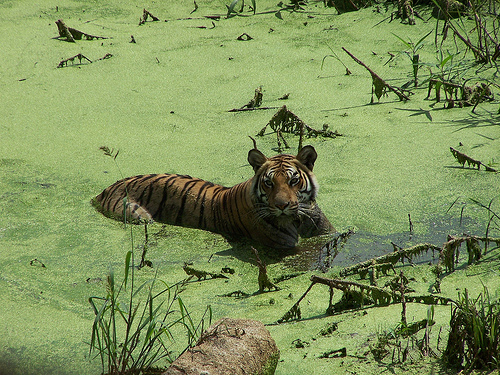Tigre: (92, 138, 345, 268)
